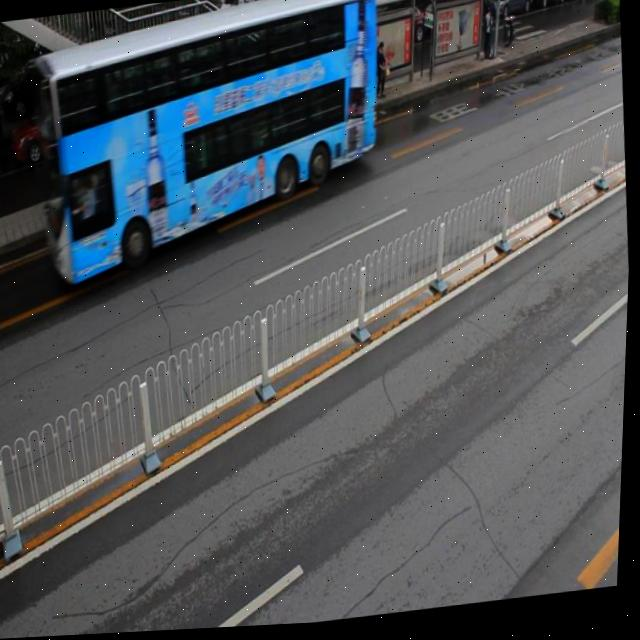car: (7, 87, 106, 168), (107, 61, 210, 131), (286, 12, 372, 83), (199, 60, 272, 140), (209, 33, 286, 102), (0, 121, 0, 179)
van: (24, 0, 392, 288)
